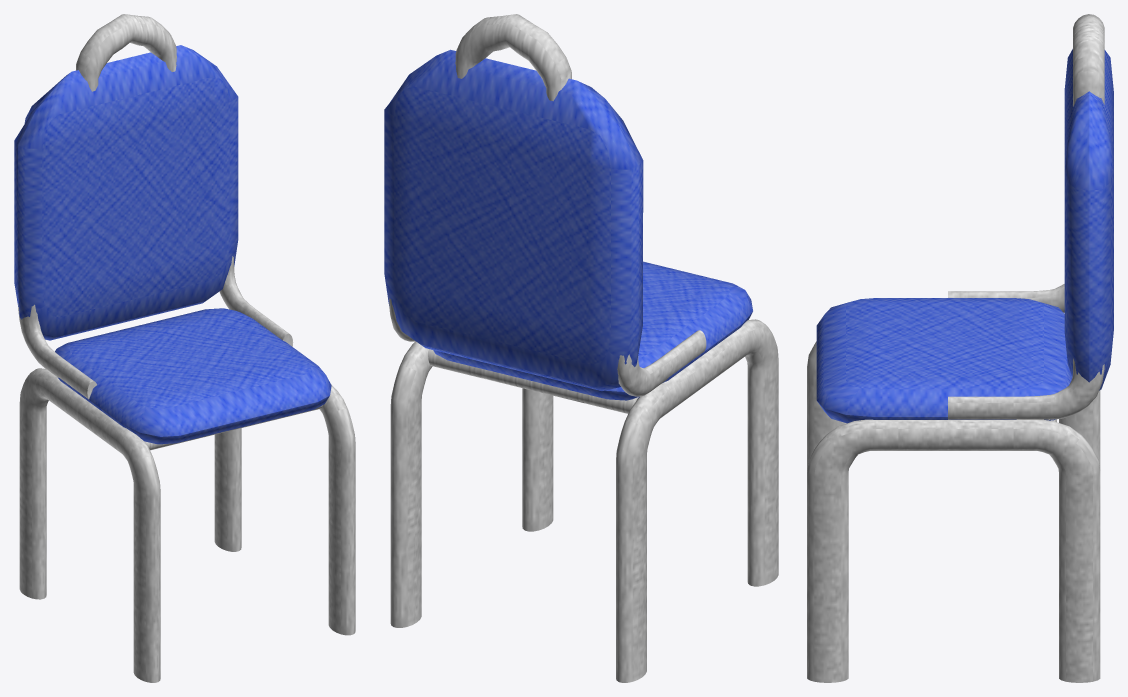
The model's file is chair.FBX.
The picture shows the model from 3 angles, left to right: view 1: azimuth 30°, elevation 25°; view 2: azimuth 150°, elevation 25°; view 3: azimuth 270°, elevation 25°; orthographic projection. The views are drawn at different scales.
Parts seen in each view (by area): view 1: back, chair, seat; view 2: back, chair, seat; view 3: chair, seat, back.
Boxes of the visible parts, box(x1,y1,x2,y2) form: back: box(14, 45, 238, 340); chair: box(18, 14, 355, 682); seat: box(55, 308, 331, 444); back: box(384, 49, 643, 390); chair: box(389, 14, 778, 682); seat: box(433, 261, 752, 400); chair: box(807, 14, 1104, 682); seat: box(816, 298, 1072, 423); back: box(1064, 49, 1113, 390).
Size of the model in its own units: 55.32 by 134 by 61.41.
2 materials, 2 textured.
